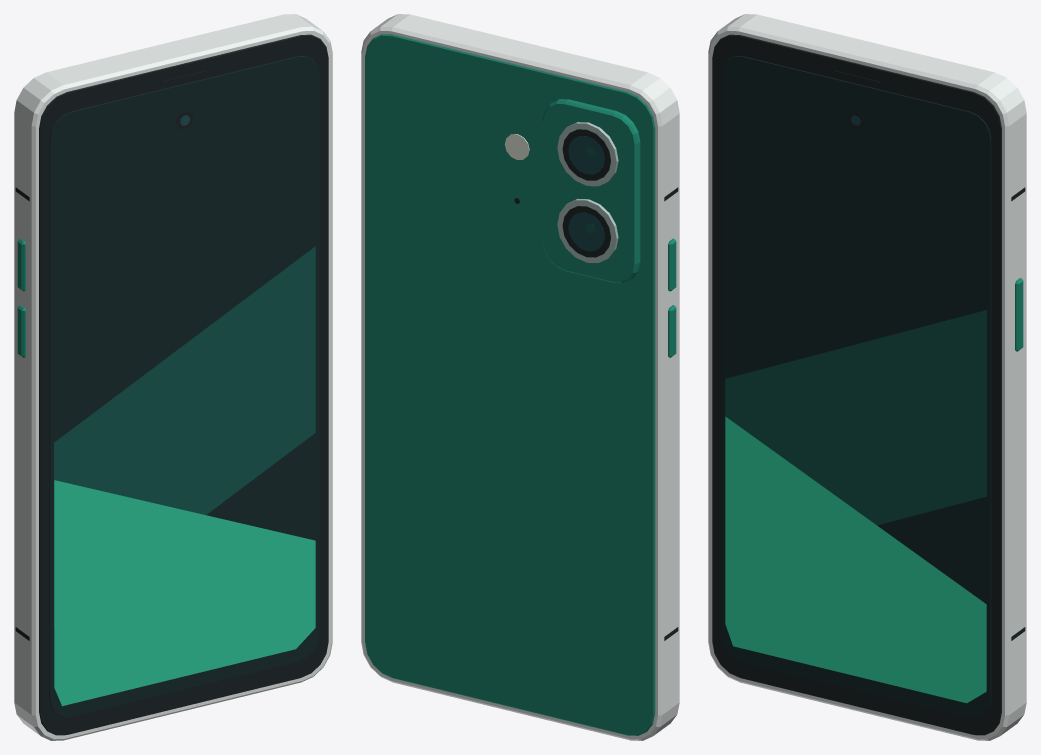
Rendered from phone.glb.
3 views of the same model, side by side, from view 1: azimuth 30°, elevation 25°; view 2: azimuth 150°, elevation 25°; view 3: azimuth 330°, elevation 25° (orthographic).
Visible parts, largest first — view 1: screen, screen_wallpaper, frame, front_bezel; view 2: back_panel, frame, camera_island, camera_lens_1, camera_lens_2, camera_ring_1, camera_ring_2; view 3: screen, screen_wallpaper, frame, front_bezel, power_button.
Boxes of the visible parts, bbox=[...] form: screen: bbox=[49, 56, 319, 717]; screen_wallpaper: bbox=[54, 246, 315, 706]; frame: bbox=[14, 14, 332, 740]; front_bezel: bbox=[39, 34, 328, 735]; back_panel: bbox=[365, 34, 655, 735]; frame: bbox=[361, 14, 679, 740]; camera_island: bbox=[542, 99, 640, 283]; camera_lens_1: bbox=[562, 129, 610, 180]; camera_lens_2: bbox=[562, 206, 610, 257]; camera_ring_1: bbox=[557, 122, 618, 186]; camera_ring_2: bbox=[557, 198, 618, 262]; screen: bbox=[721, 56, 991, 717]; screen_wallpaper: bbox=[725, 310, 986, 703]; frame: bbox=[708, 14, 1026, 740]; front_bezel: bbox=[712, 34, 1001, 735]; power_button: bbox=[1015, 278, 1023, 351].
Size of the model in its own units: 0.0777 by 0.1582 by 0.0127.
